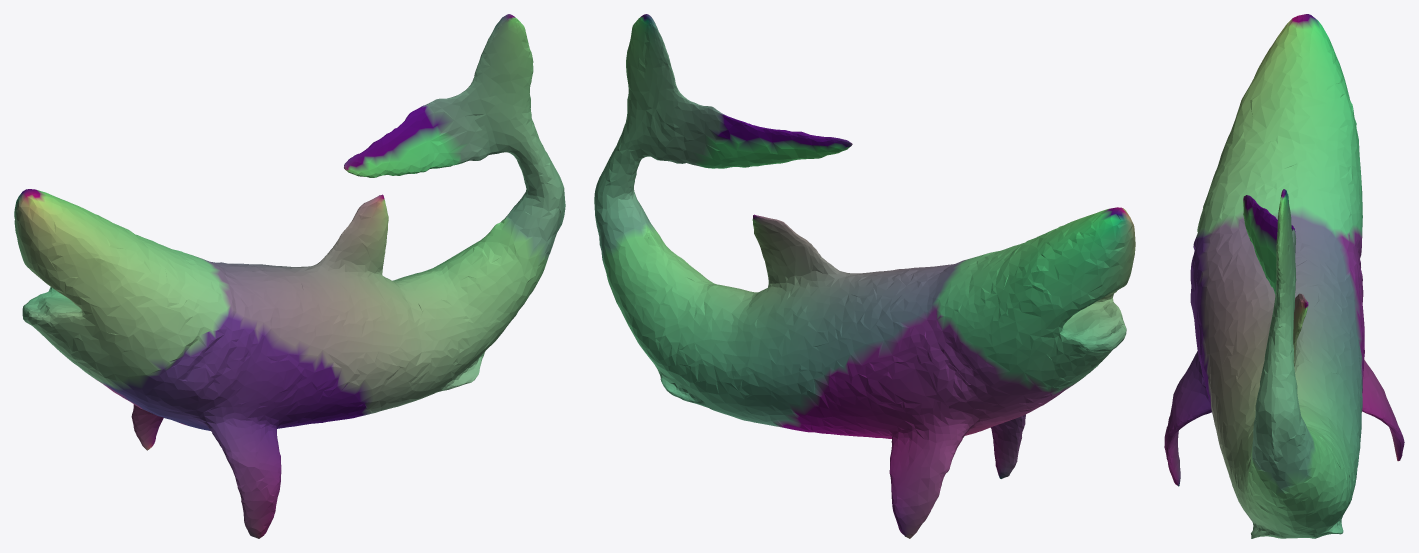
Rendered from shark-16.off.obj.
3 renders of one model, left to right at view 1: azimuth 30°, elevation 25°; view 2: azimuth 150°, elevation 25°; view 3: azimuth 270°, elevation 25°, orthographic. The views are drawn at different scales.
Size of the model in its own units: 1.42 by 1.06 by 0.5067.
